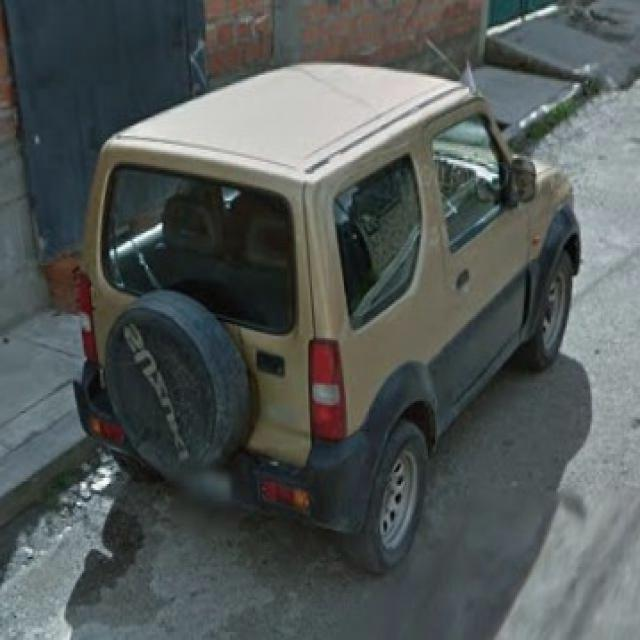Car: (70, 68, 576, 554)
